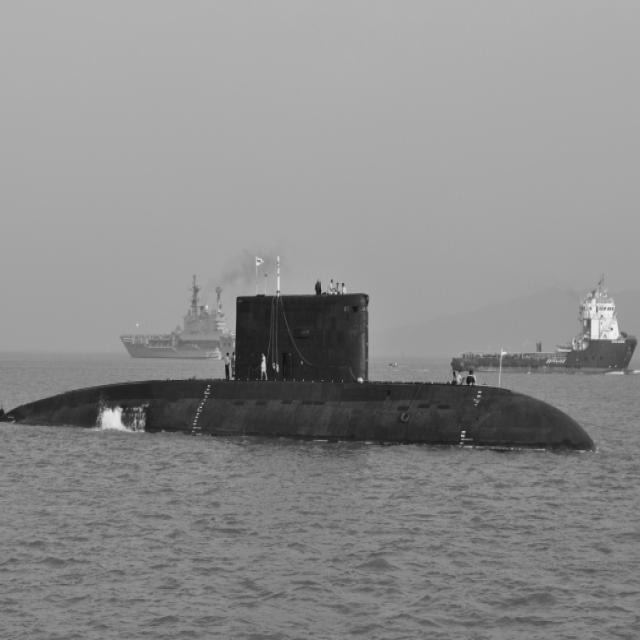submarine: (1, 292, 602, 452)
